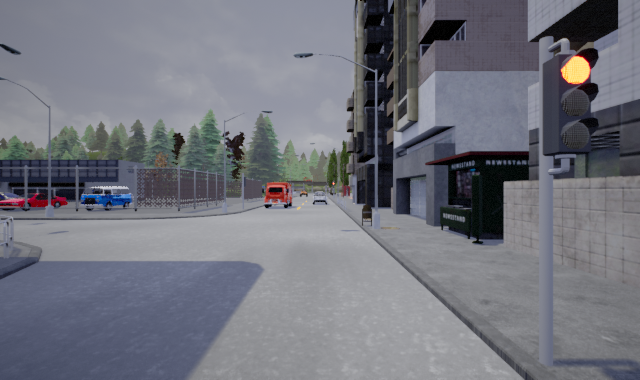vehicle: (79, 185, 133, 212), (1, 190, 68, 210), (262, 181, 293, 209), (311, 190, 328, 206)
